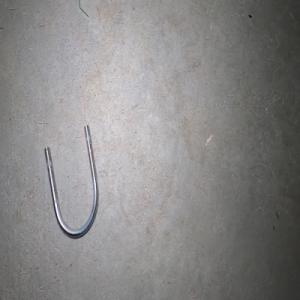ClampPart: (43, 124, 99, 239)
